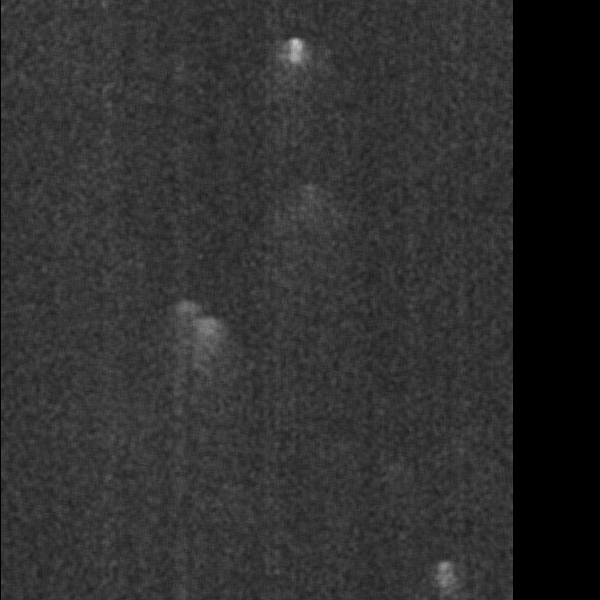spark: (180, 309, 224, 421), (280, 29, 308, 129), (430, 557, 459, 600)
